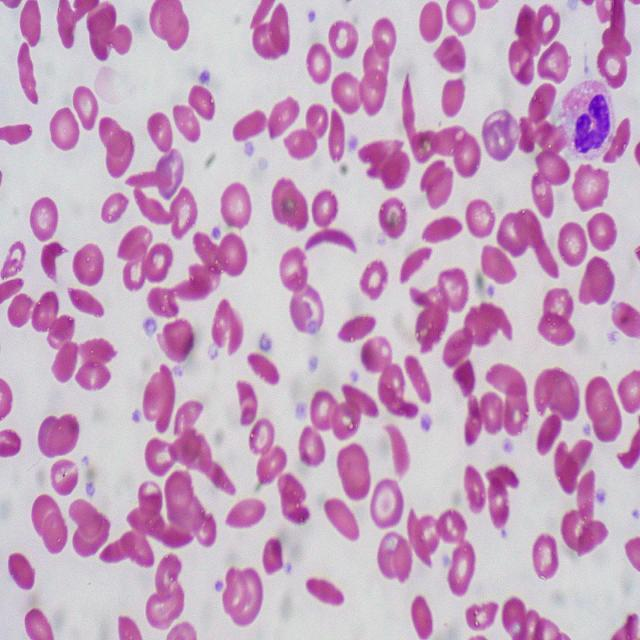sickle cell: (305, 224, 362, 265), (65, 283, 109, 327), (305, 570, 346, 617), (383, 418, 412, 482), (399, 71, 417, 151)
